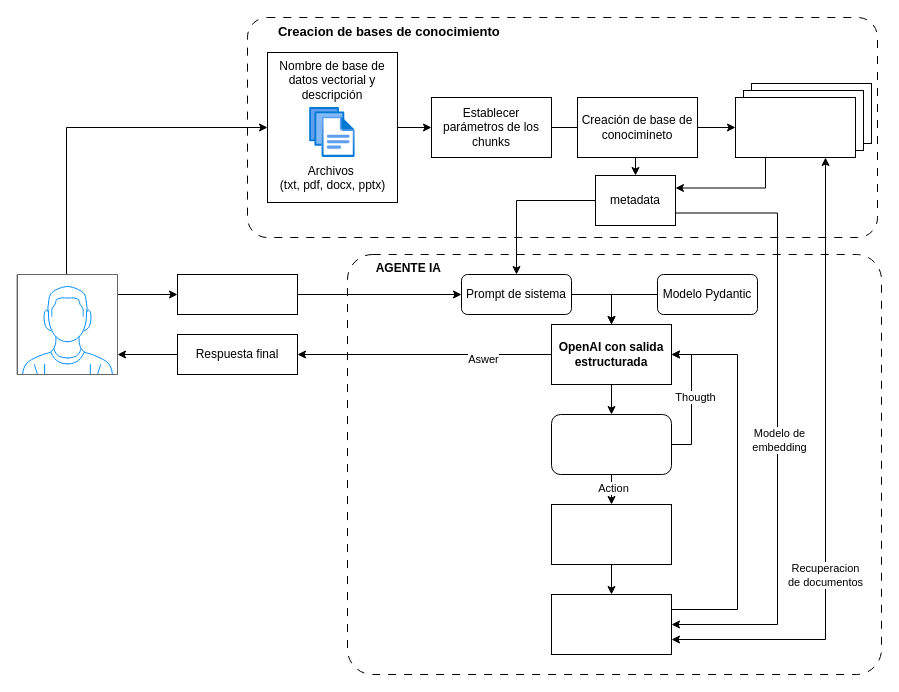
This 899x692 diagram has some shape labels left out. The centre of each missing label's shape, as x and y in pixels:
"Bases de conocimineto disponibles (Faiss)" belongs at point (795, 127).
"Estados posibles: Analizar (thought) Actuar (action) Responder (answer)" belongs at point (611, 444).
"Pregunta del usuario" belongs at point (237, 294).
"Recuperar información de la base de conocimiento" belongs at point (611, 624).
"Seleccionar fuente de la información" belongs at point (611, 534).
